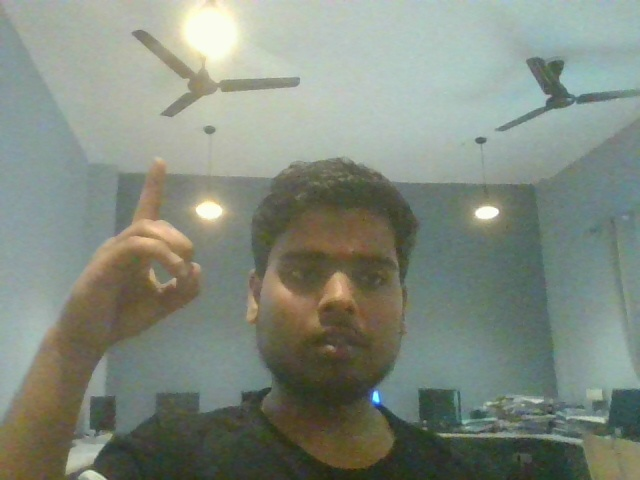D: (47, 144, 232, 385)
